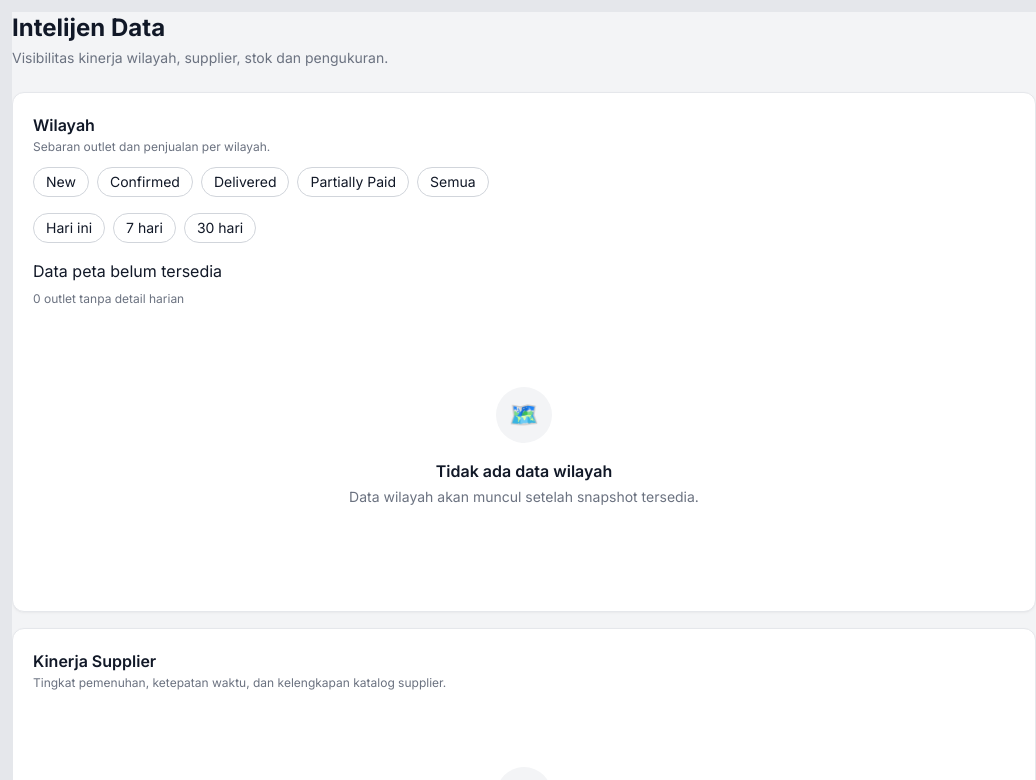
admin page consumes shared API contract › discloses outlets without daily detail only for narrow periods
Expected: the text with test id "outlets-without-daily-detail" shows "0", left=33, top=291, right=184, bottom=306
Click the button "7 hari".
click(144, 228)  # box left=113, top=213, right=176, bottom=243
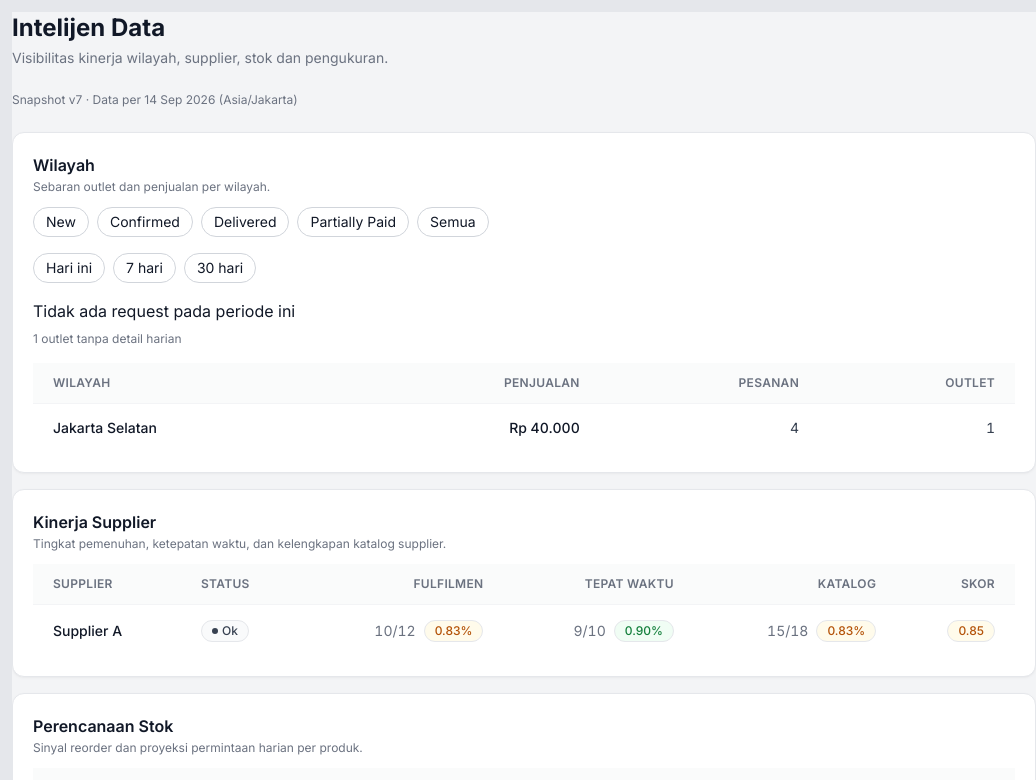
Expected: the text with test id "outlets-without-daily-detail" shows "1", left=33, top=331, right=182, bottom=346
